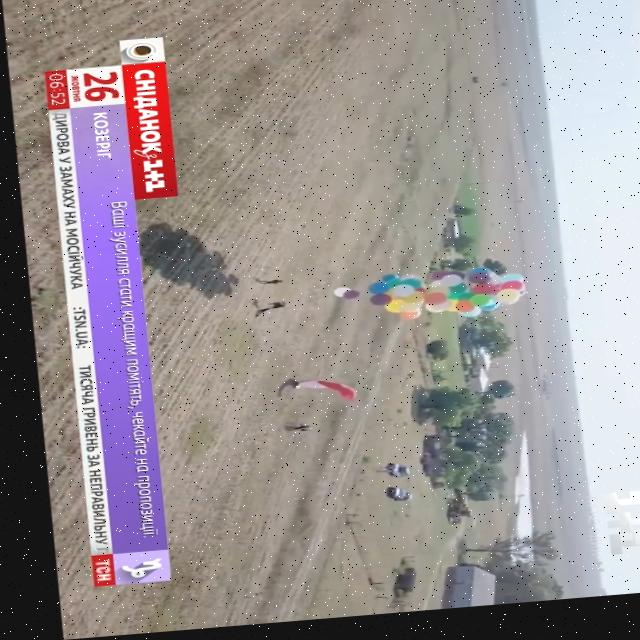balloon: (489, 297, 512, 312), (463, 302, 486, 316), (465, 292, 490, 304), (418, 307, 441, 320), (384, 291, 406, 304), (494, 289, 515, 302), (360, 289, 382, 301), (495, 282, 516, 294), (393, 280, 414, 292), (391, 317, 412, 329), (378, 306, 397, 319), (452, 315, 474, 326), (416, 300, 438, 311), (396, 299, 416, 311), (463, 281, 484, 292), (434, 282, 455, 293), (365, 301, 384, 313), (422, 293, 442, 304), (394, 309, 416, 319), (397, 285, 413, 298), (449, 307, 466, 319), (326, 292, 344, 303), (466, 275, 484, 286), (441, 291, 459, 302), (336, 295, 353, 306), (422, 287, 441, 296), (379, 285, 394, 296), (438, 300, 457, 307), (441, 307, 451, 320), (373, 280, 390, 287), (476, 313, 492, 318)
